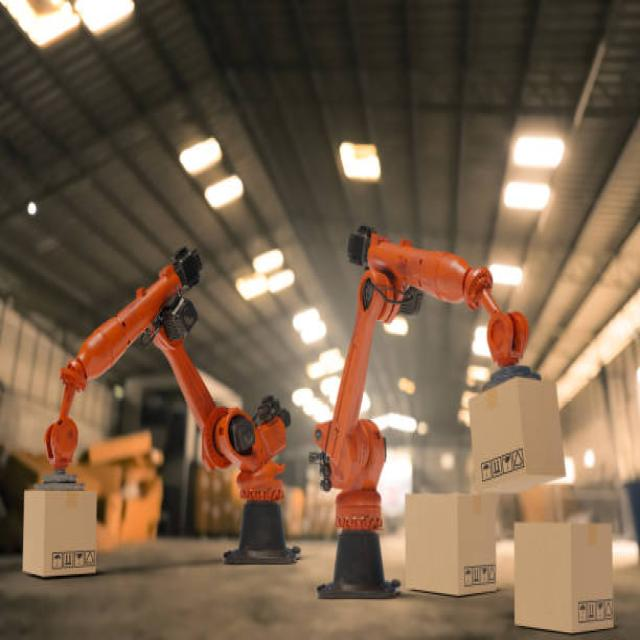Robotic-arm: (309, 221, 539, 609), (40, 238, 295, 568)
